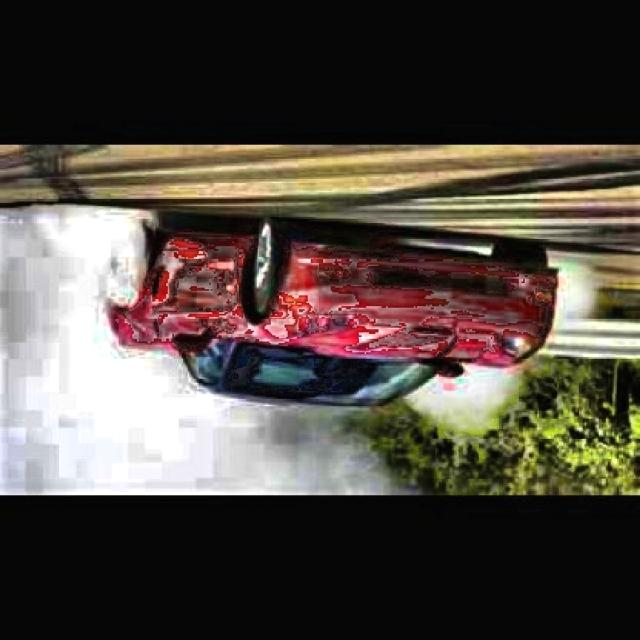maroon: (102, 217, 556, 411)
